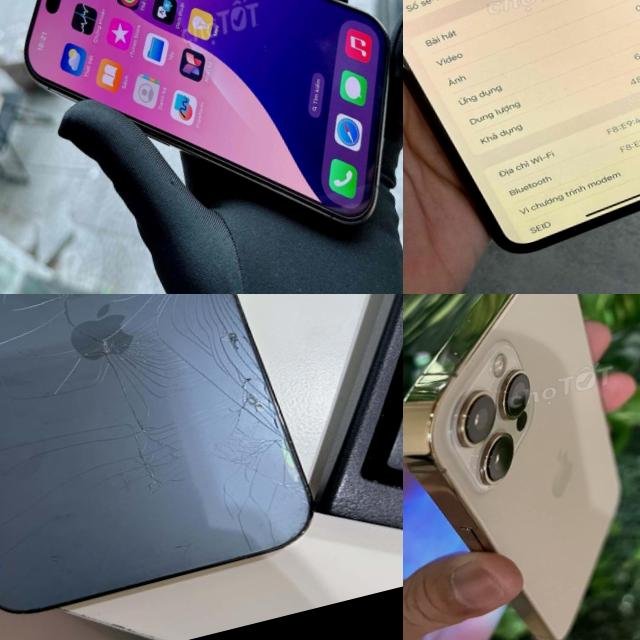physical_damage: (0, 295, 183, 417), (0, 462, 187, 568), (198, 305, 294, 485), (34, 387, 188, 489), (205, 477, 302, 548), (61, 294, 221, 315), (0, 294, 61, 327)
